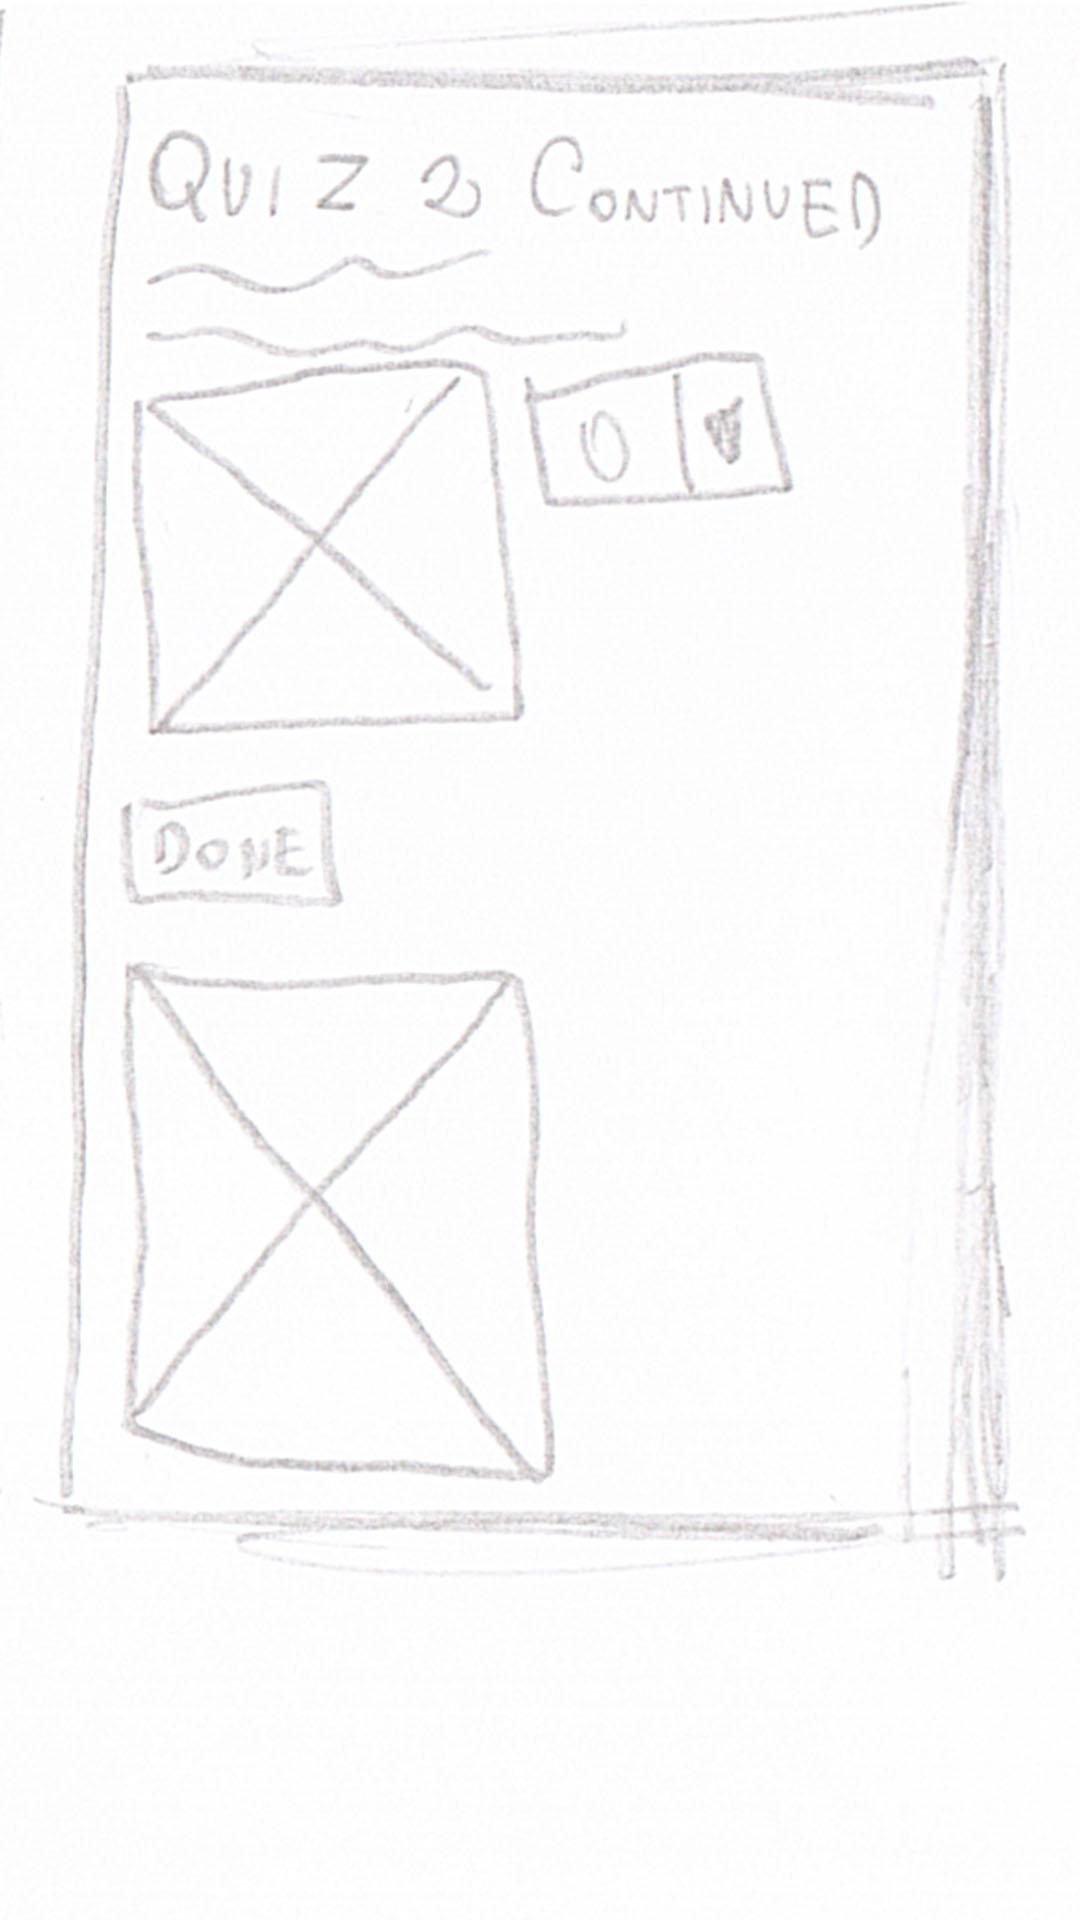Button: (127, 775, 335, 922)
Image: (125, 967, 555, 1480), (138, 363, 524, 738)
Label: (145, 125, 880, 244), (144, 320, 625, 369), (146, 243, 497, 298)
ListPicker: (525, 349, 789, 505)
Screen: (65, 66, 1002, 1526)
